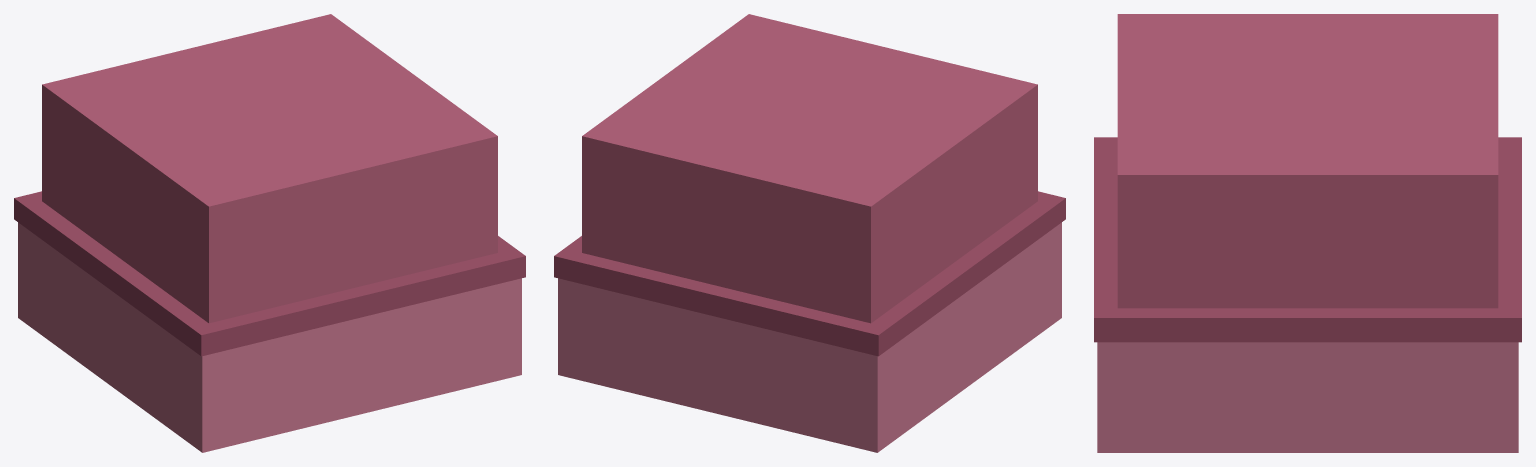
File: jaqueta_manga_inf.glb
The picture shows the model from 3 angles, left to right: view 1: azimuth 30°, elevation 25°; view 2: azimuth 150°, elevation 25°; view 3: azimuth 270°, elevation 25°; orthographic projection. The views are drawn at different scales.
Parts seen in each view (by area): view 1: jaqueta_manga_inf; view 2: jaqueta_manga_inf; view 3: jaqueta_manga_inf.
Part boxes in pixels (left/top/right/bottom): jaqueta_manga_inf: left=14, top=14, right=525, bottom=452; jaqueta_manga_inf: left=554, top=14, right=1065, bottom=452; jaqueta_manga_inf: left=1094, top=14, right=1521, bottom=452.
Size of the model in its own units: 0.32 by 0.2225 by 0.32.
